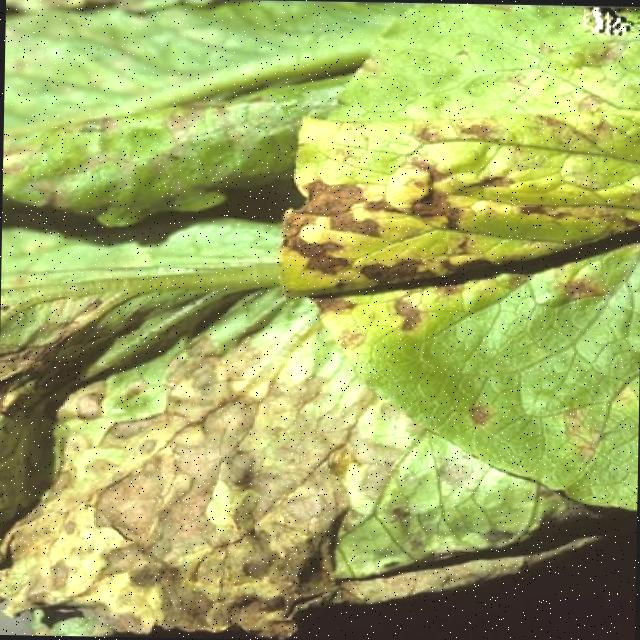Septoria_Blight_on_lettuce: (97, 383, 352, 598)
